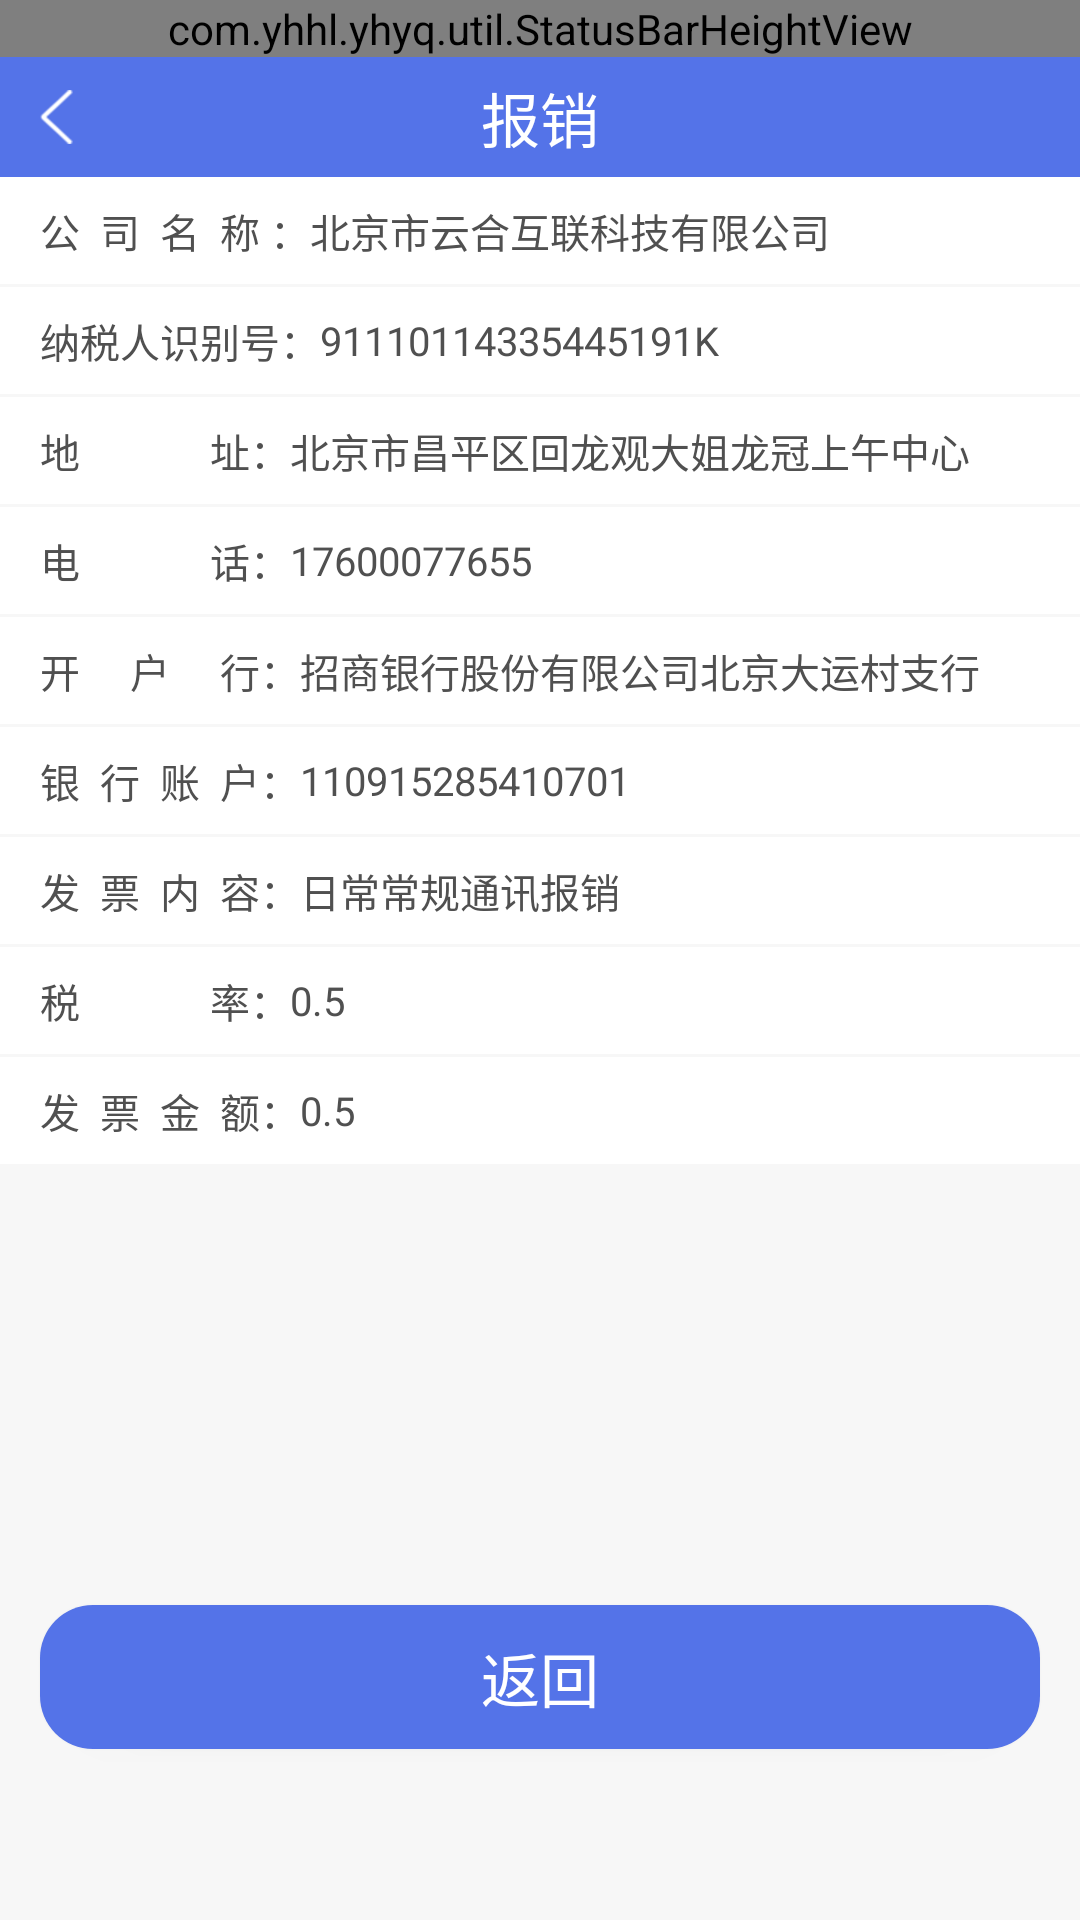

Named icons in this screenshot (1080px x 1920px) and their bounding boxes, region(x1, y1, x2, y2):
back: region(40, 90, 73, 144)
